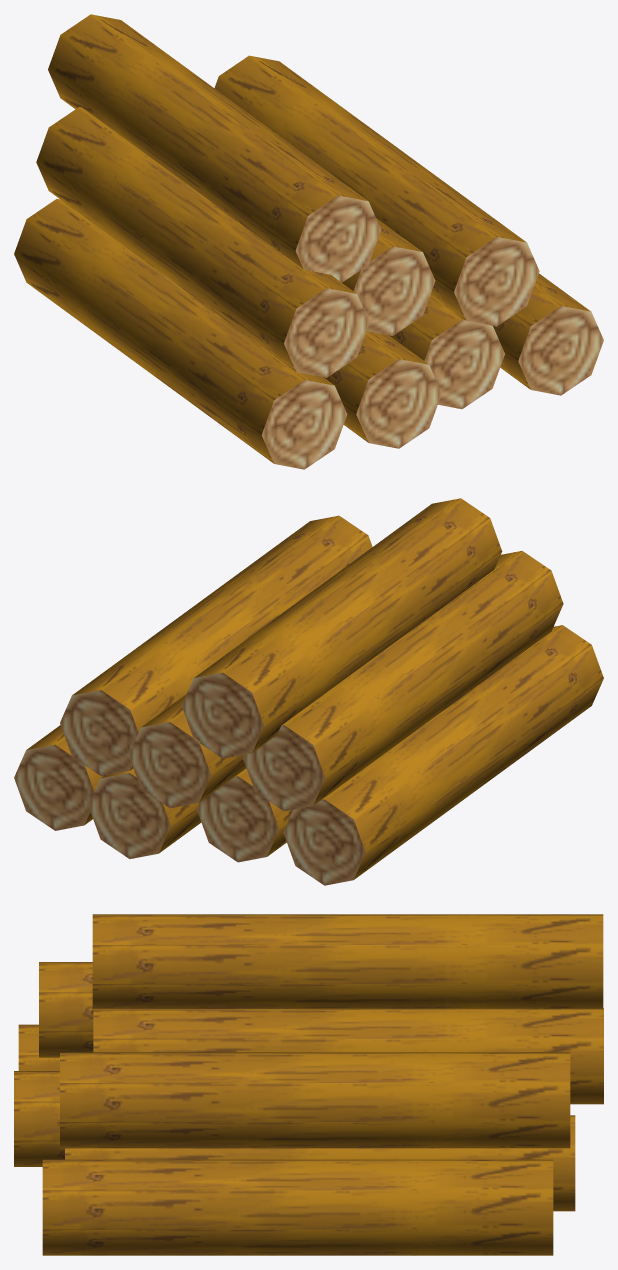
Rendered from wood1.FBX.
3 views of the same model, one above another, from view 1: azimuth 30°, elevation 25°; view 2: azimuth 150°, elevation 25°; view 3: azimuth 270°, elevation 25° (orthographic). The views are drawn at different scales.
Visible parts, largest first — view 1: Cylinder003; view 2: Cylinder003; view 3: Cylinder003.
Part boxes in pixels (x1=…): Cylinder003: x1=14, y1=14, x2=603, y2=469; Cylinder003: x1=14, y1=498, x2=603, y2=885; Cylinder003: x1=14, y1=914, x2=603, y2=1255.
Size of the model in its own units: 82.55 by 51.43 by 116.
